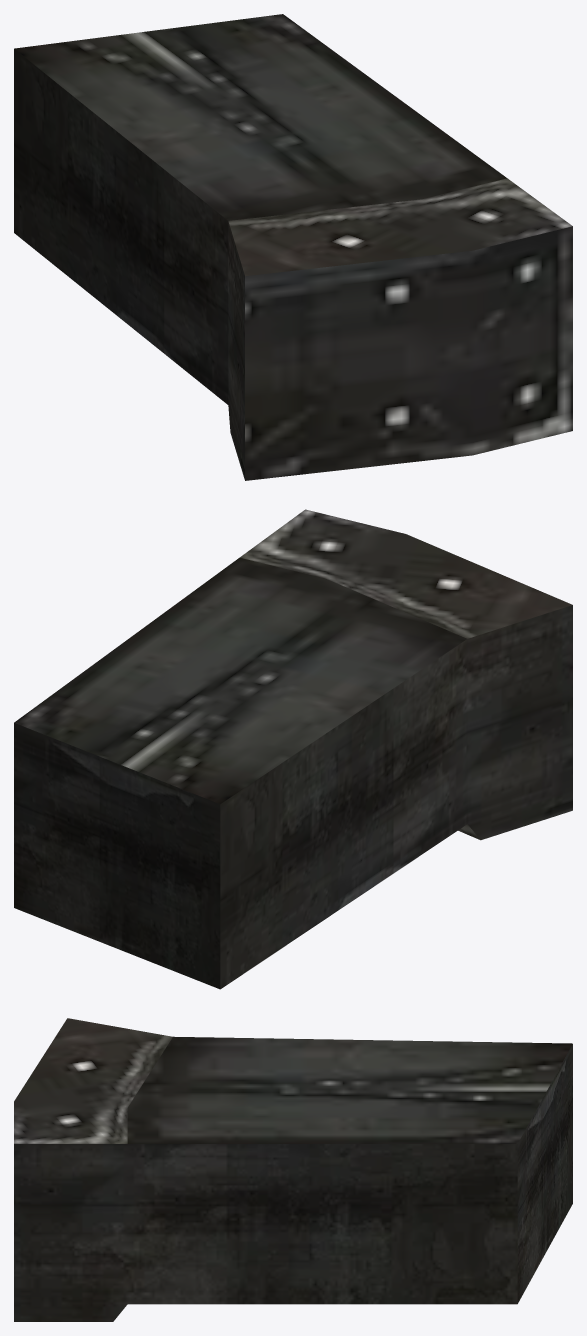
The model's file is piece01_01.glb.
3 renders of one model, top to bottom at view 1: azimuth 30°, elevation 25°; view 2: azimuth 150°, elevation 25°; view 3: azimuth 270°, elevation 25°, orthographic. The views are drawn at different scales.
Parts seen in each view (by area): view 1: model_piece01_01; view 2: model_piece01_01; view 3: model_piece01_01.
Boxes of the visible parts, <box> form: model_piece01_01: <box>14,14,572,480</box>; model_piece01_01: <box>14,509,572,989</box>; model_piece01_01: <box>14,1018,572,1321</box>.
Bounding box in the file's own units: 0.775 × 0.5103 × 1.45.
1 material, 1 textured.
